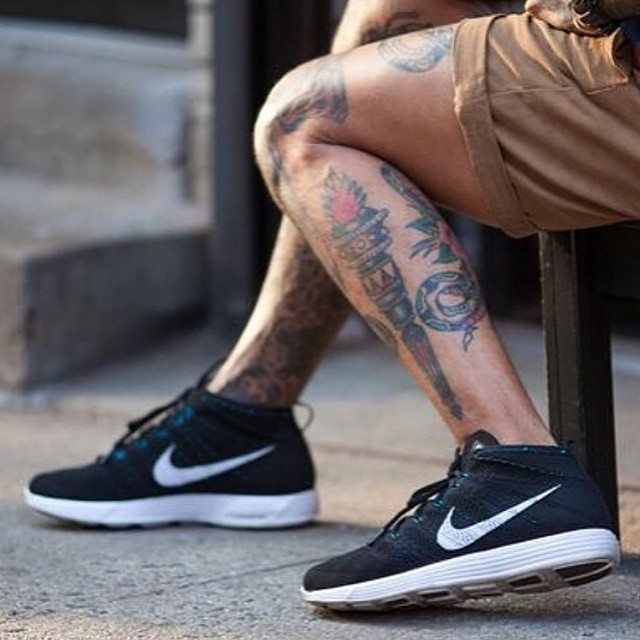sneaker: (281, 428, 640, 624), (7, 359, 339, 541)
